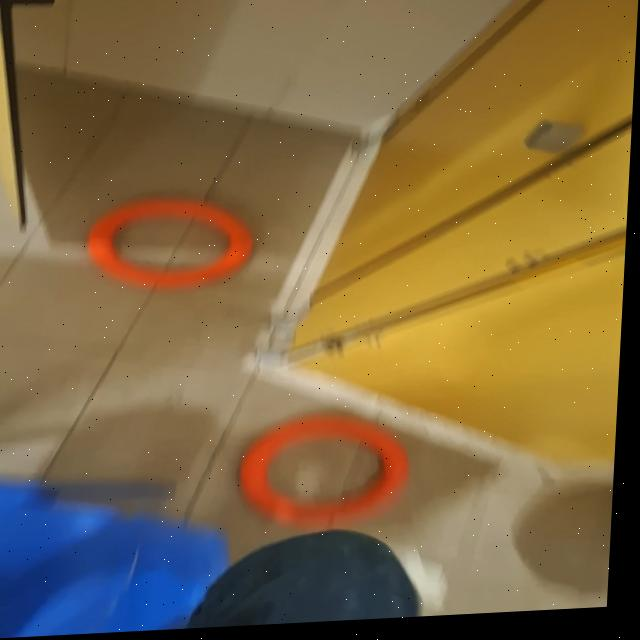note: (241, 412, 418, 536), (87, 195, 260, 296)
